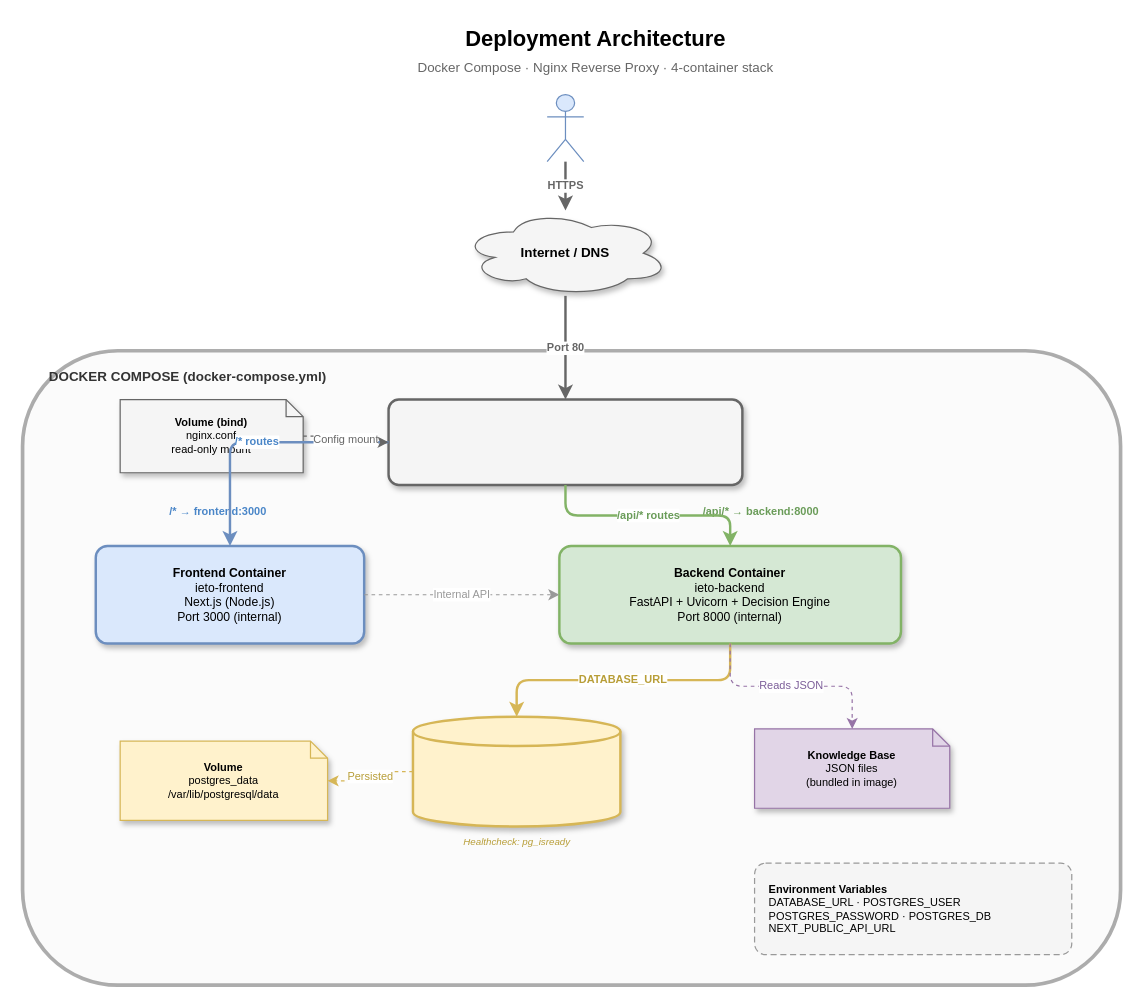
Some shapes in this 1143 by 1008 pixel diagram are drawn without their labels. The centre of each missing label's shape, as x and y in pixels:
MSME User: (565,127)
Nginx (Alpine) ieto-nginx Reverse Proxy Port 80 (public): (566,443)
PostgreSQL ieto-postgres Port 5432 (internal): (517,773)
